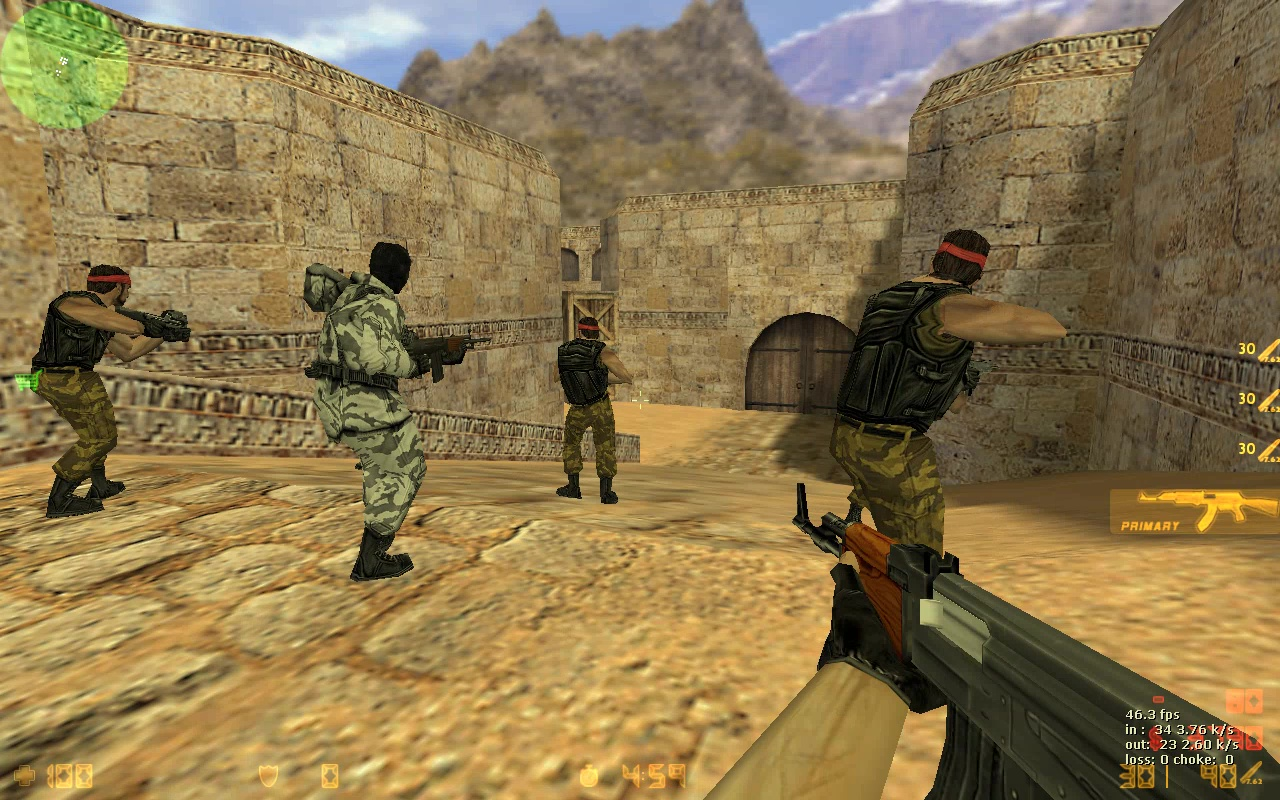terr1: (827, 227, 1063, 653), (27, 262, 190, 519), (554, 318, 635, 507)
terr2: (301, 241, 462, 584)
